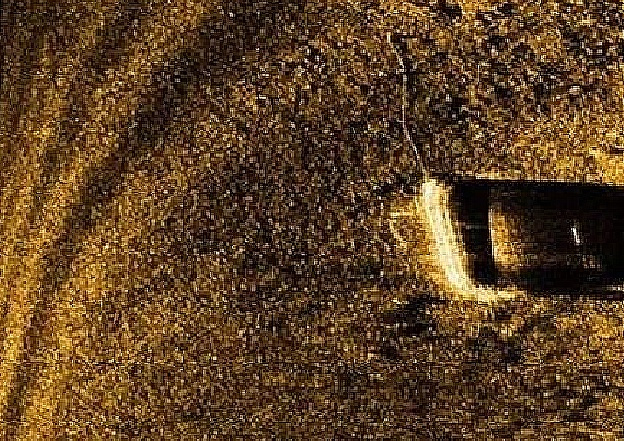ship: (413, 178, 527, 302)
